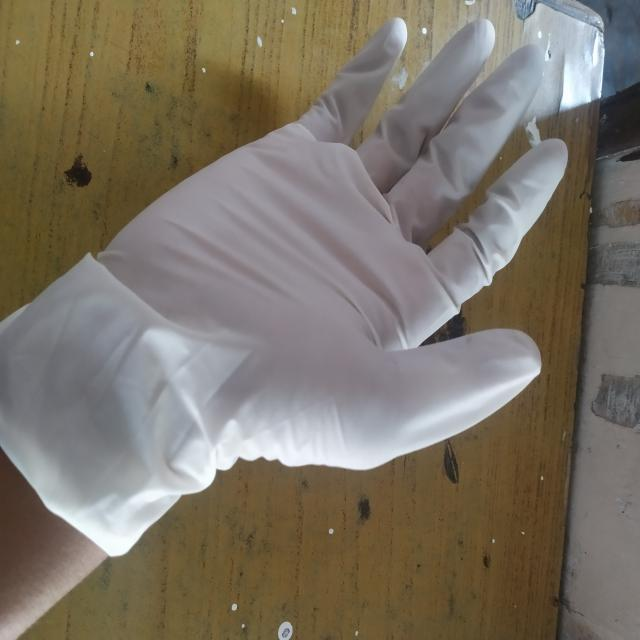gloved_hand: (2, 13, 580, 560)
